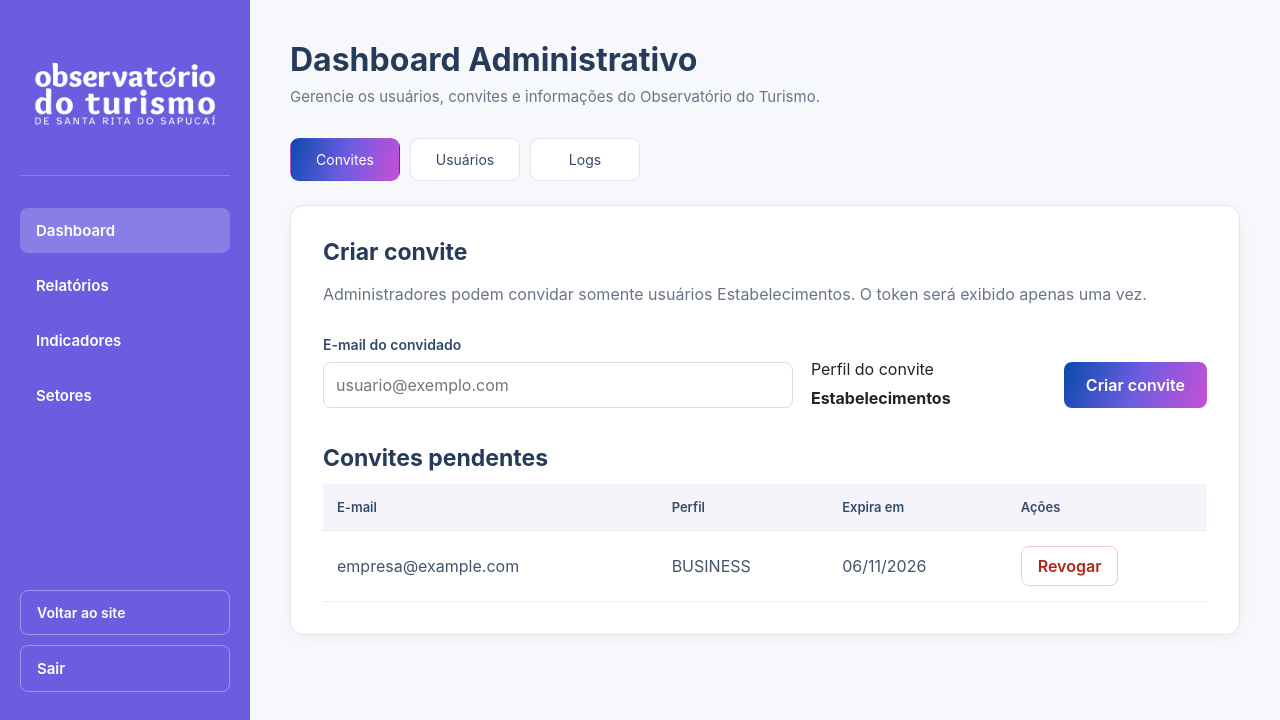
Scenario: AdminDashboard › lista e revoga convites próprios
Expected: the text "empresa@example.com" is shown, [323,530,658,601]
Click the button "Revogar" at (1070, 566), box [1021,546,1118,586]
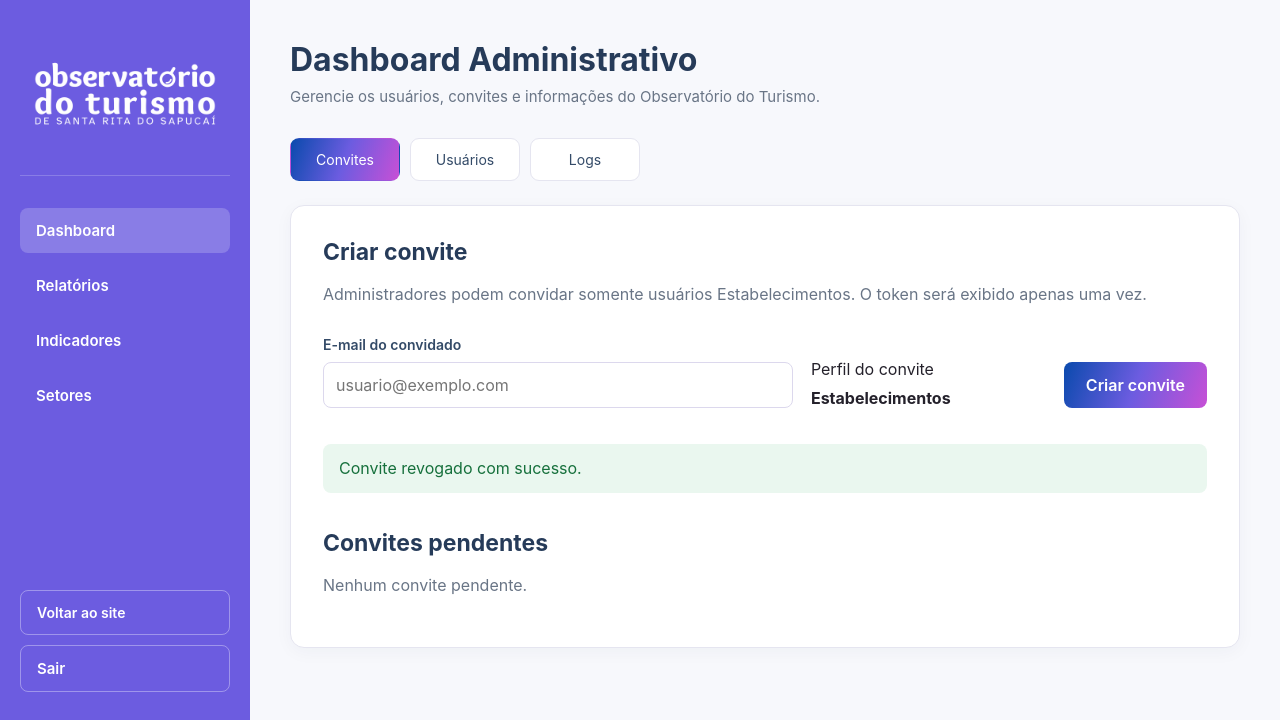
Expected: the text "Convite revogado com sucesso." is shown, [323,444,1207,493]
